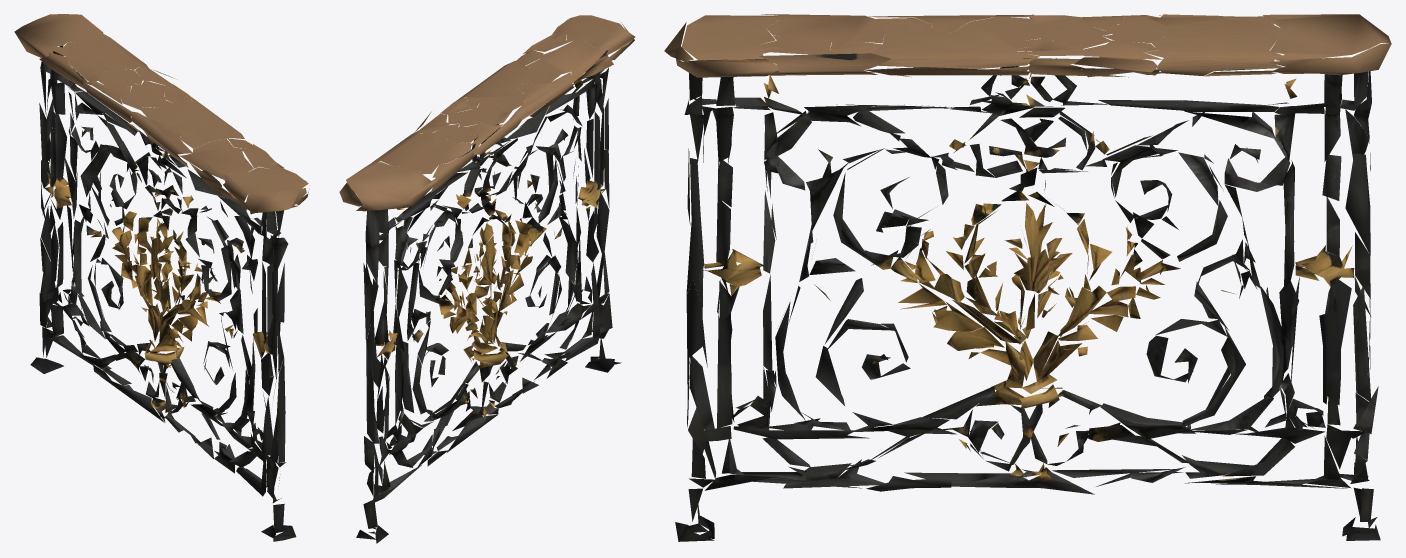
The model's file is hf_railing.glb.
3 views of the same model, side by side, from view 1: azimuth 30°, elevation 25°; view 2: azimuth 150°, elevation 25°; view 3: azimuth 270°, elevation 25° (orthographic). The views are drawn at different scales.
Visible parts, largest first — view 1: tripo_node_c08ea310-aa07-43ee-a7c8-722e95ecd5d7; view 2: tripo_node_c08ea310-aa07-43ee-a7c8-722e95ecd5d7; view 3: tripo_node_c08ea310-aa07-43ee-a7c8-722e95ecd5d7.
Part boxes in pixels (x1,y1,x2,y2): tripo_node_c08ea310-aa07-43ee-a7c8-722e95ecd5d7: (14, 14, 309, 541); tripo_node_c08ea310-aa07-43ee-a7c8-722e95ecd5d7: (339, 15, 635, 543); tripo_node_c08ea310-aa07-43ee-a7c8-722e95ecd5d7: (664, 14, 1391, 541).
Bounding box in the file's own units: 0.1651 × 0.7653 × 1.
Materials: 1 (1 with a texture image).
